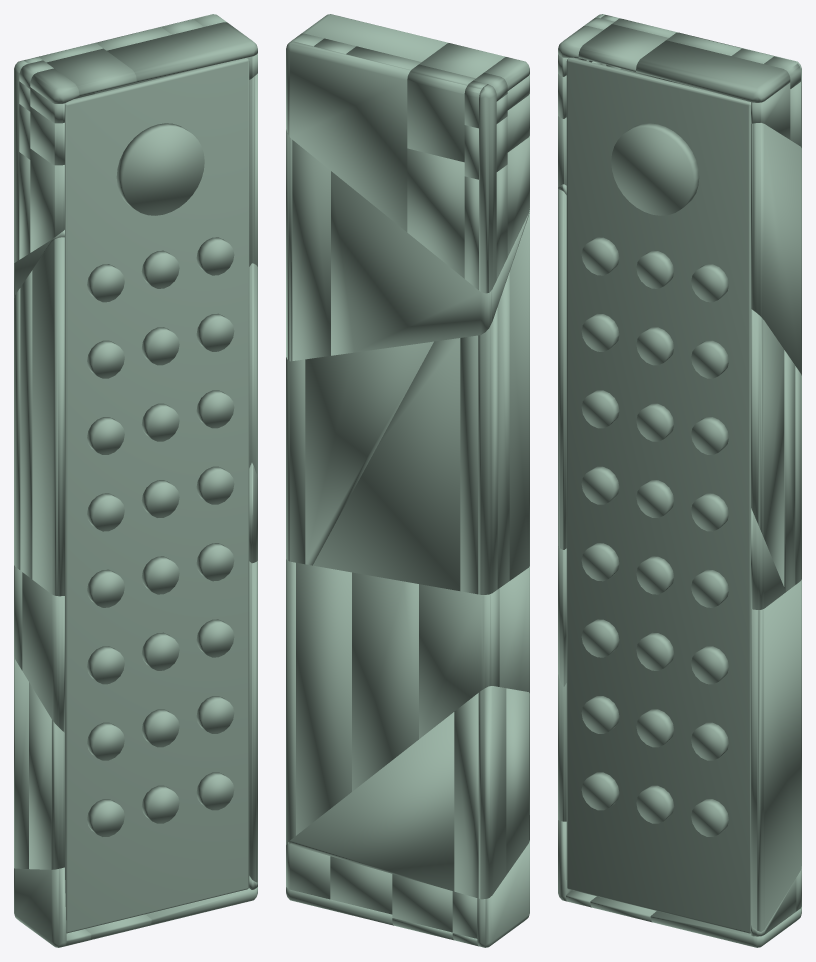
The model's file is collision-hulls.glb.
3 renders of one model, left to right at view 1: azimuth 30°, elevation 25°; view 2: azimuth 150°, elevation 25°; view 3: azimuth 330°, elevation 25°, orthographic.
Parts seen in each view (by area): view 1: fragment-008-hull-00, fragment-003-hull-01, fragment-034-hull-00, fragment-006-hull-01, fragment-000-hull-02, fragment-001-hull-00, fragment-003-hull-02, fragment-007-hull-09, fragment-006-hull-03, fragment-001-hull-14, fragment-000-hull-00, fragment-001-hull-07 (+39 smaller); view 2: fragment-003-hull-00, fragment-002-hull-03, fragment-001-hull-06, fragment-006-hull-00, fragment-005-hull-04, fragment-000-hull-01, fragment-000-hull-03, fragment-000-hull-05, fragment-002-hull-01, fragment-003-hull-01, fragment-006-hull-03, fragment-001-hull-10 (+31 smaller); view 3: fragment-008-hull-00, fragment-000-hull-00, fragment-002-hull-00, fragment-005-hull-00, fragment-034-hull-00, fragment-001-hull-00, fragment-003-hull-01, fragment-005-hull-01, fragment-001-hull-07, fragment-004-hull-00, fragment-007-hull-04, fragment-001-hull-01 (+34 smaller).
Boxes of the visible parts, left/top/right/bottom form: fragment-008-hull-00: left=65, top=58, right=249, bottom=933; fragment-003-hull-01: left=32, top=237, right=64, bottom=596; fragment-034-hull-00: left=116, top=123, right=204, bottom=215; fragment-006-hull-01: left=29, top=682, right=64, bottom=869; fragment-000-hull-02: left=22, top=572, right=64, bottom=732; fragment-001-hull-00: left=107, top=22, right=257, bottom=82; fragment-003-hull-02: left=20, top=270, right=32, bottom=579; fragment-007-hull-09: left=14, top=867, right=66, bottom=947; fragment-006-hull-03: left=14, top=657, right=28, bottom=868; fragment-001-hull-14: left=30, top=148, right=64, bottom=252; fragment-000-hull-00: left=249, top=561, right=257, bottom=882; fragment-001-hull-07: left=46, top=48, right=136, bottom=96; fragment-003-hull-00: left=313, top=338, right=460, bottom=590; fragment-002-hull-03: left=331, top=171, right=491, bottom=355; fragment-001-hull-06: left=286, top=41, right=410, bottom=231; fragment-006-hull-00: left=288, top=712, right=454, bottom=891; fragment-005-hull-04: left=305, top=341, right=433, bottom=565; fragment-000-hull-01: left=296, top=562, right=351, bottom=835; fragment-000-hull-03: left=352, top=572, right=418, bottom=791; fragment-000-hull-05: left=419, top=584, right=490, bottom=738; fragment-002-hull-01: left=292, top=140, right=330, bottom=360; fragment-003-hull-01: left=509, top=210, right=529, bottom=580; fragment-006-hull-03: left=478, top=686, right=506, bottom=899; fragment-001-hull-10: left=407, top=148, right=464, bottom=278; fragment-008-hull-00: left=566, top=57, right=750, bottom=933; fragment-000-hull-00: left=751, top=579, right=801, bottom=931; fragment-002-hull-00: left=751, top=123, right=801, bottom=375; fragment-005-hull-00: left=751, top=309, right=784, bottom=586; fragment-034-hull-00: left=611, top=123, right=699, bottom=215; fragment-001-hull-00: left=636, top=40, right=790, bottom=102; fragment-003-hull-01: left=558, top=189, right=566, bottom=549; fragment-005-hull-01: left=784, top=350, right=795, bottom=591; fragment-001-hull-07: left=578, top=24, right=668, bottom=71; fragment-004-hull-00: left=751, top=508, right=785, bottom=609; fragment-007-hull-04: left=650, top=907, right=801, bottom=947; fragment-001-hull-01: left=751, top=83, right=790, bottom=139.
Size of the model in its own units: 0.045 by 0.18 by 0.019.
